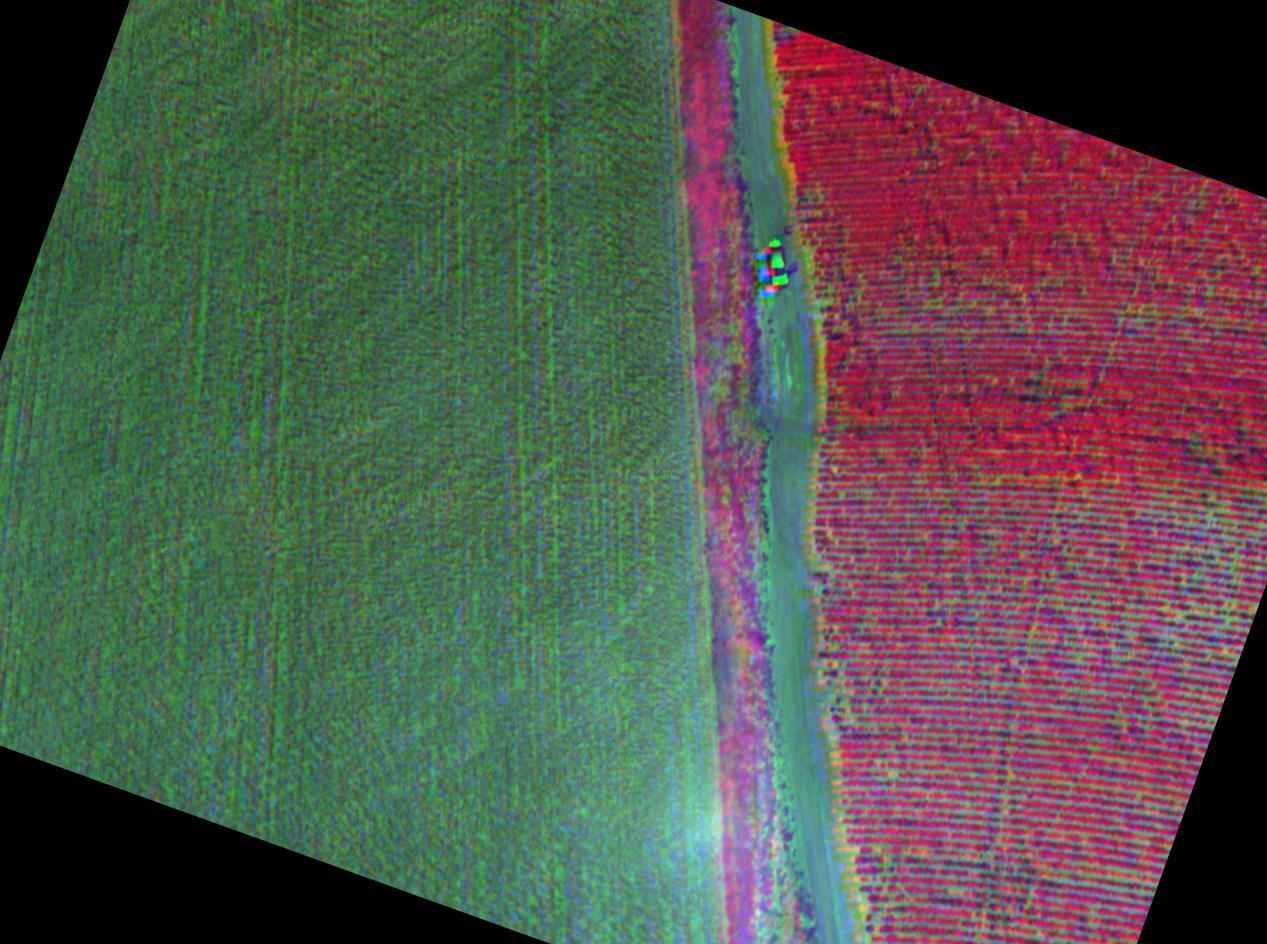dc: (806, 250, 963, 330), (1161, 490, 1266, 597), (1108, 607, 1238, 679), (817, 652, 887, 745), (814, 537, 888, 613), (852, 844, 911, 936)
